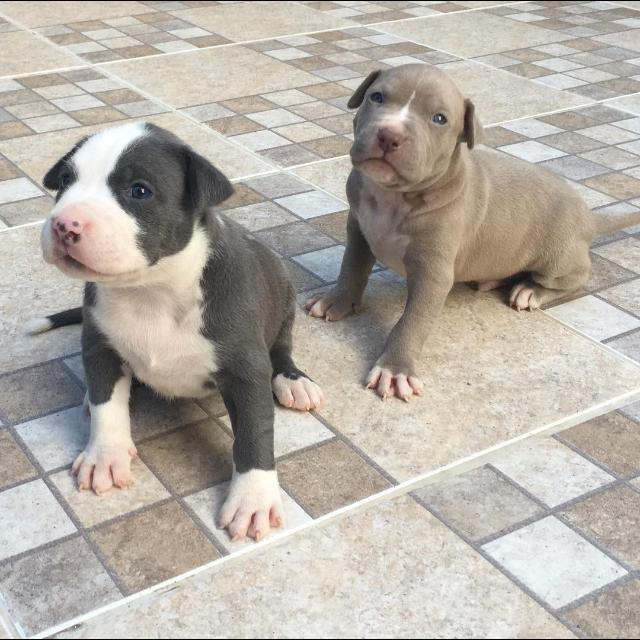am_pit_bull_terrier: (25, 121, 326, 547), (304, 64, 638, 405)
